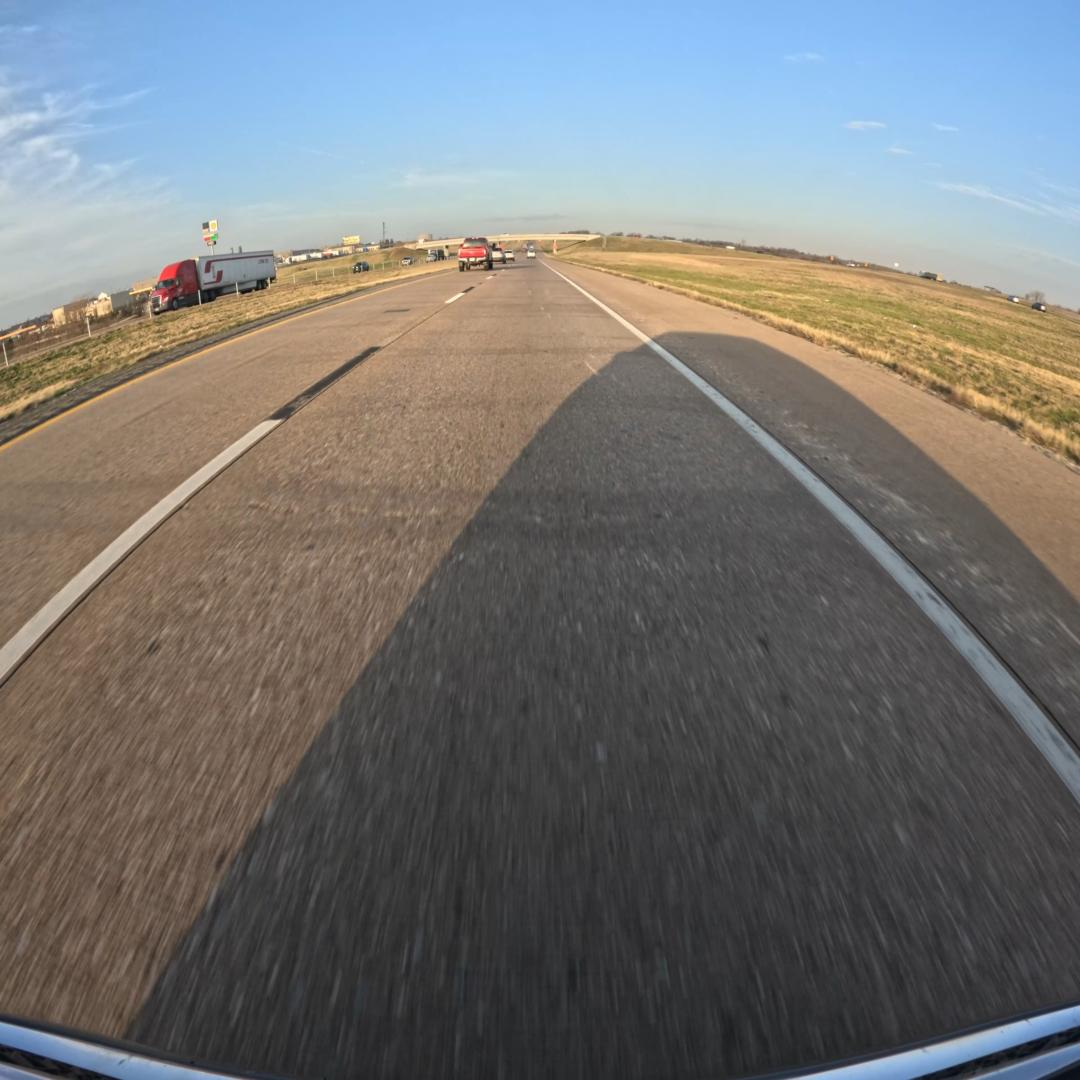lane0: (0, 264, 1080, 1080)
lane1: (0, 271, 488, 686)
